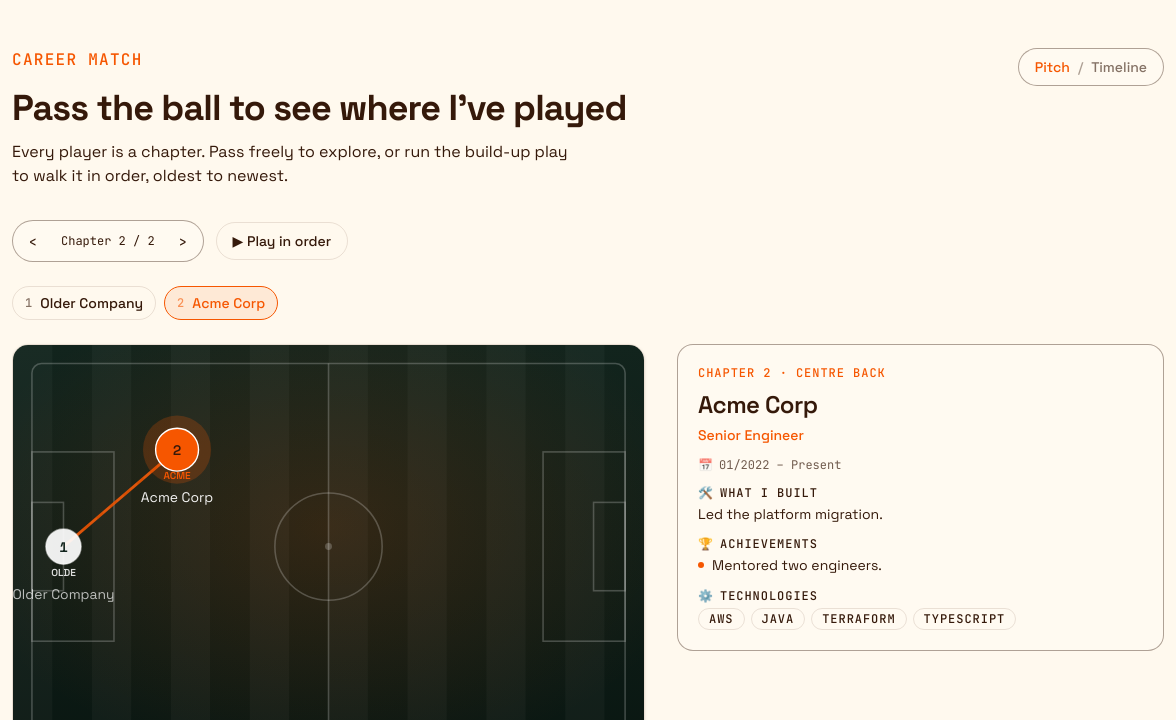
Test: Career journey embedded in the story › offers the plain timeline as an alternative to the pitch
This screenshot has width=1176, height=720.
What coordinates should you click on to do the following:
click the button with aria-label "switch to timeline"
I would click on:
 (1091, 67)
Its box is [1018,48,1164,86].
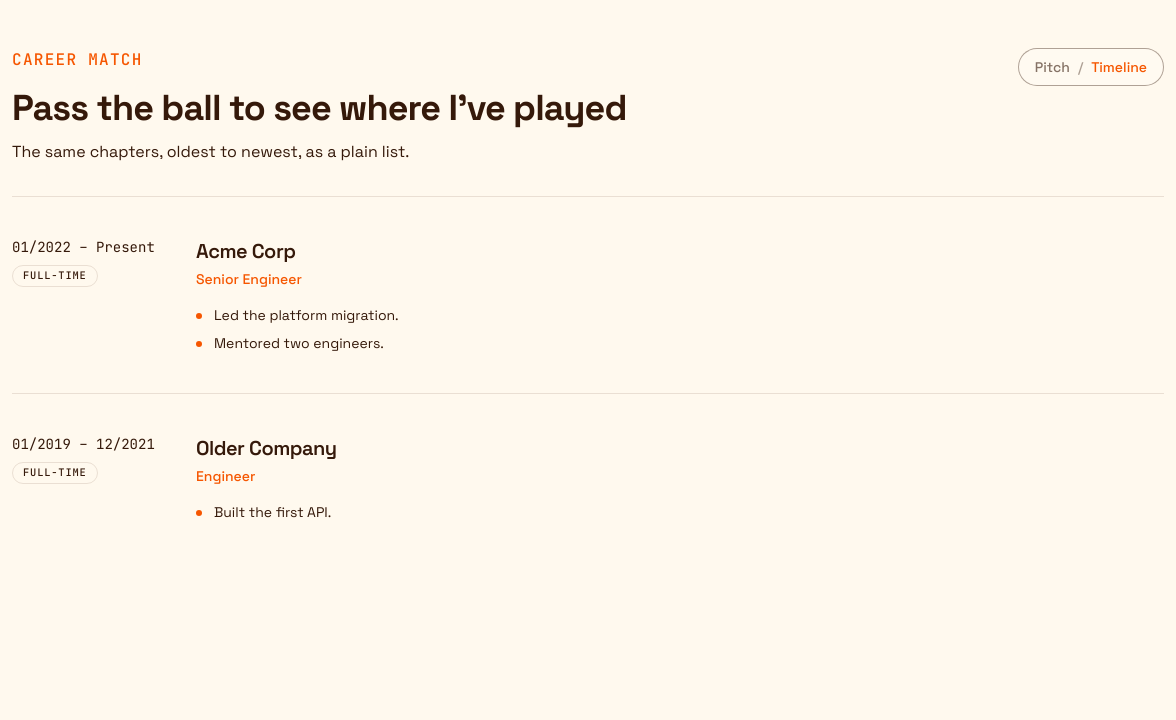
Expected: the heading "Acme Corp" is shown, [196,238,296,264]
Result: the button "Play in order" is gone
